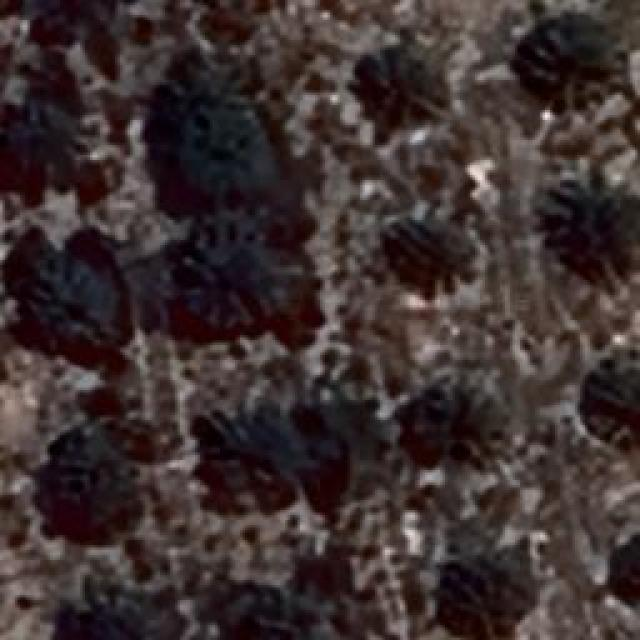PalmTree: (100, 63, 625, 570), (31, 73, 111, 608), (175, 208, 313, 332), (147, 62, 270, 200), (192, 396, 320, 502), (22, 236, 132, 342), (545, 162, 640, 280), (424, 546, 538, 639), (45, 425, 140, 533), (392, 204, 470, 302), (529, 26, 619, 109), (398, 392, 506, 458), (0, 96, 72, 178), (365, 48, 443, 120), (585, 359, 640, 439), (210, 589, 293, 640), (618, 533, 640, 602)
